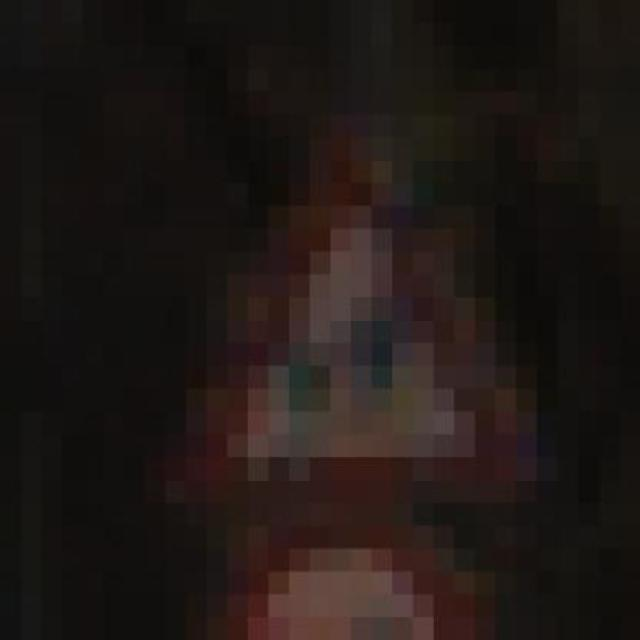Beware of children: (165, 91, 537, 526)
